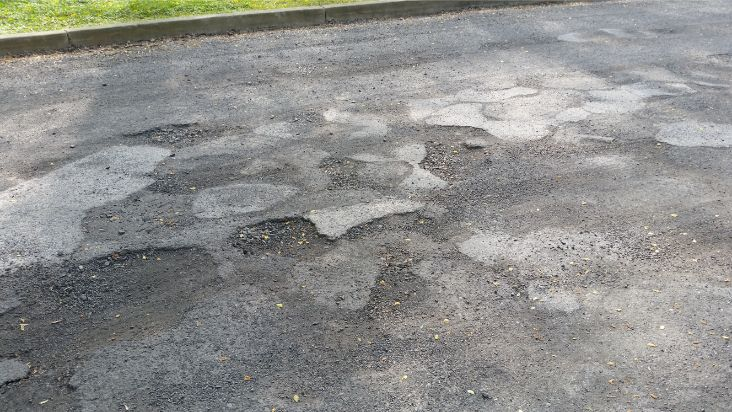pothole: (0, 243, 218, 367), (223, 213, 330, 260), (416, 120, 498, 181)
